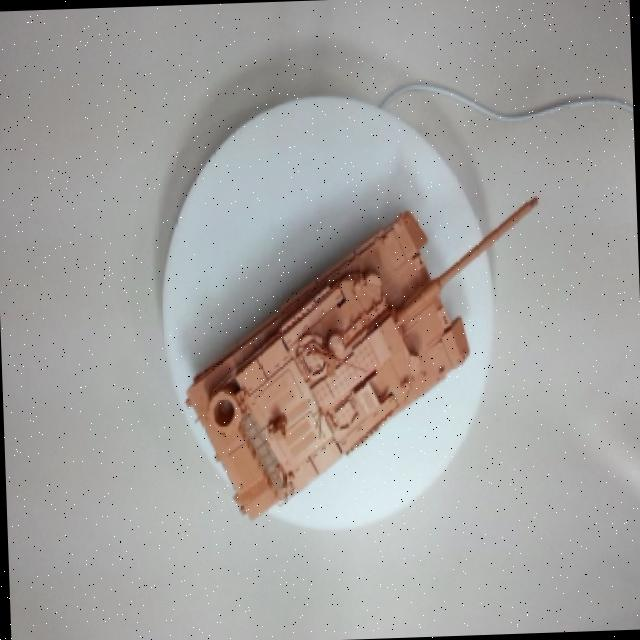korea tank: (130, 192, 564, 524)
